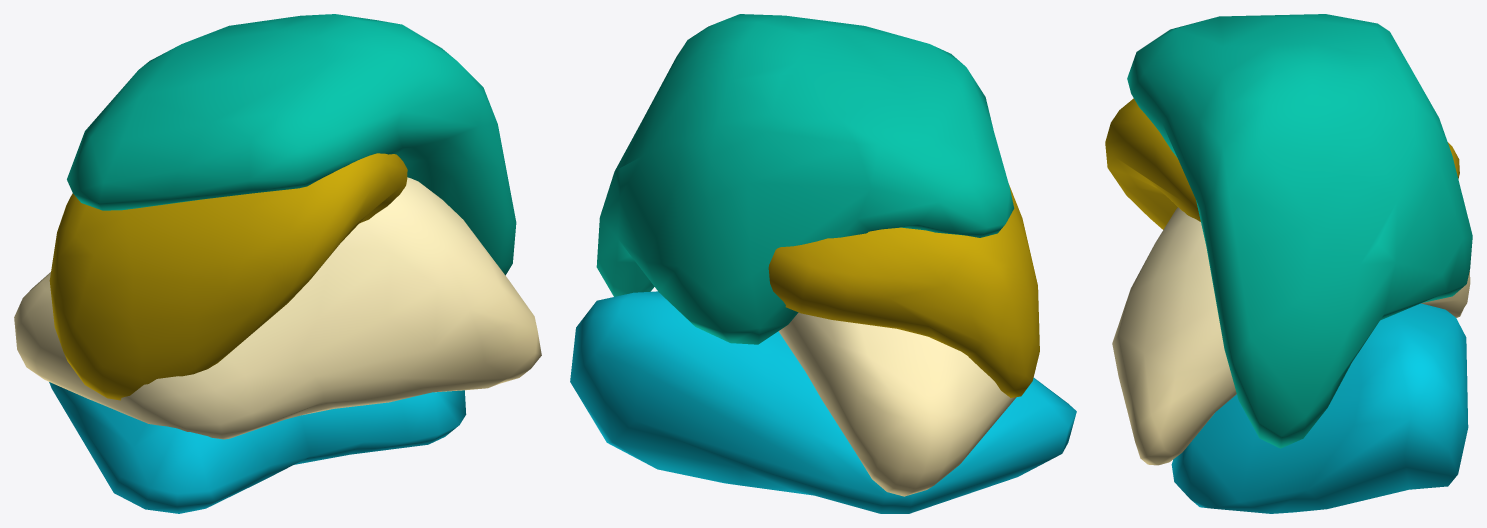
The model's file is Basket_Plastic_Medium_Cloth_0_Laundromat.fbx.
The picture shows the model from 3 angles, left to right: view 1: azimuth 30°, elevation 25°; view 2: azimuth 150°, elevation 25°; view 3: azimuth 270°, elevation 25°; orthographic projection. The views are drawn at different scales.
Parts seen in each view (by area): view 1: Basket_Plastic_Medium_Cloth_3.Laundromat, Basket_Plastic_Medium_Cloth_1.Laundromat, Basket_Plastic_Medium_Cloth_2.Laundromat, Basket_Plastic_Medium_Cloth_0.Laundromat; view 2: Basket_Plastic_Medium_Cloth_3.Laundromat, Basket_Plastic_Medium_Cloth_0.Laundromat, Basket_Plastic_Medium_Cloth_2.Laundromat, Basket_Plastic_Medium_Cloth_1.Laundromat; view 3: Basket_Plastic_Medium_Cloth_3.Laundromat, Basket_Plastic_Medium_Cloth_0.Laundromat, Basket_Plastic_Medium_Cloth_1.Laundromat, Basket_Plastic_Medium_Cloth_2.Laundromat.
Part boxes in pixels (x1=…): Basket_Plastic_Medium_Cloth_3.Laundromat: x1=67, y1=14, x2=516, y2=275; Basket_Plastic_Medium_Cloth_1.Laundromat: x1=14, y1=177, x2=541, y2=439; Basket_Plastic_Medium_Cloth_2.Laundromat: x1=49, y1=153, x2=407, y2=400; Basket_Plastic_Medium_Cloth_0.Laundromat: x1=49, y1=382, x2=466, y2=513; Basket_Plastic_Medium_Cloth_3.Laundromat: x1=596, y1=14, x2=1014, y2=344; Basket_Plastic_Medium_Cloth_0.Laundromat: x1=570, y1=291, x2=1076, y2=513; Basket_Plastic_Medium_Cloth_2.Laundromat: x1=768, y1=185, x2=1039, y2=397; Basket_Plastic_Medium_Cloth_1.Laundromat: x1=778, y1=312, x2=1016, y2=496; Basket_Plastic_Medium_Cloth_3.Laundromat: x1=1127, y1=14, x2=1472, y2=448; Basket_Plastic_Medium_Cloth_0.Laundromat: x1=1171, y1=303, x2=1468, y2=513; Basket_Plastic_Medium_Cloth_1.Laundromat: x1=1112, y1=207, x2=1470, y2=465; Basket_Plastic_Medium_Cloth_2.Laundromat: x1=1105, y1=98, x2=1459, y2=229.
Bounding box in the file's own units: 70.19 × 64.01 × 50.05.
1 material, 1 textured.
